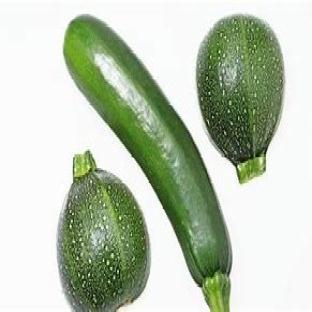Zucchini: (64, 16, 231, 311), (57, 151, 150, 311), (198, 16, 284, 182)
